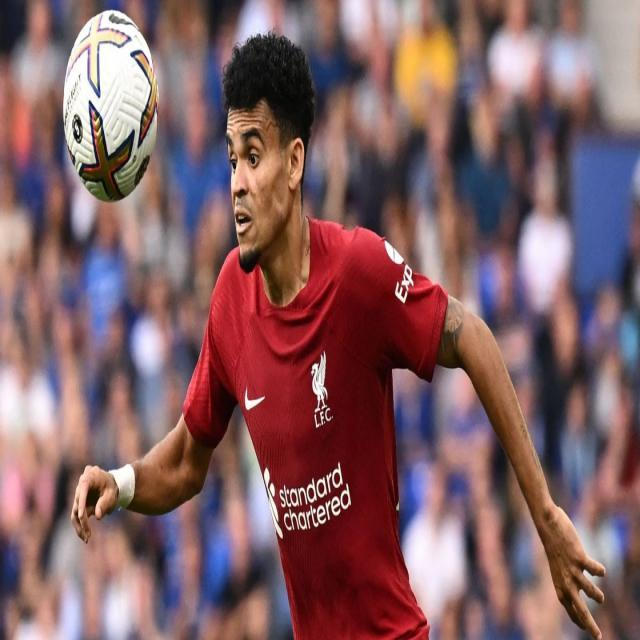Nike: (244, 384, 264, 411)
Standard Chartered: (263, 461, 353, 540)
